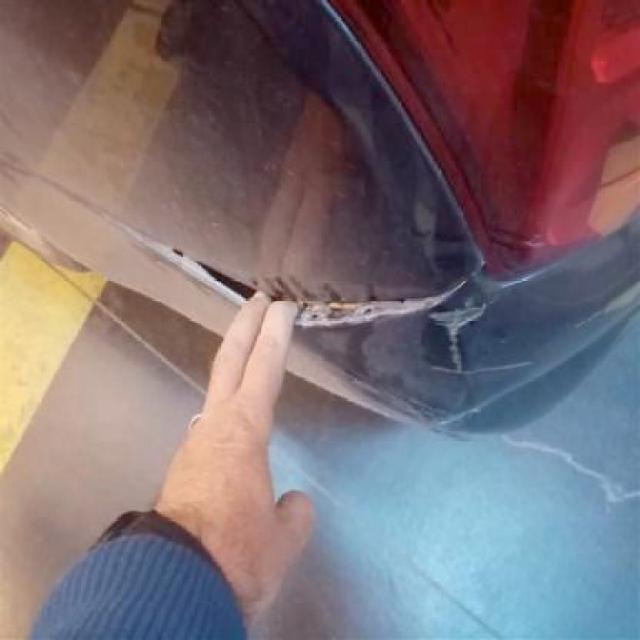car damage: (303, 310, 478, 428), (190, 254, 257, 300)
